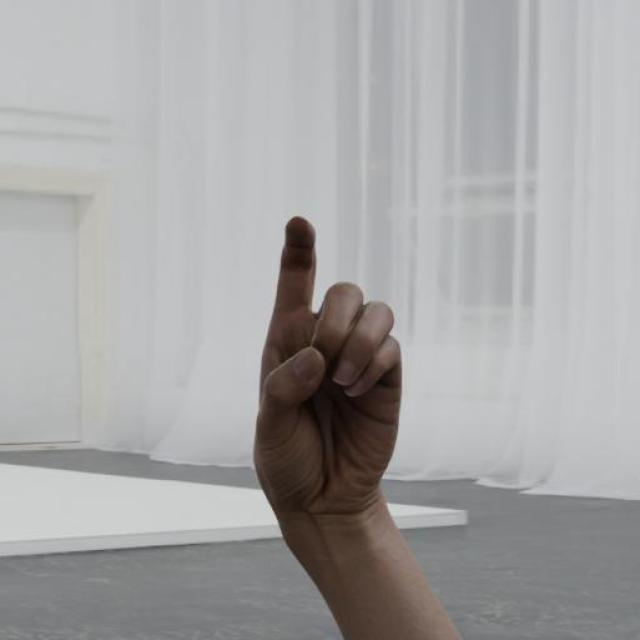X: (246, 214, 407, 521)
